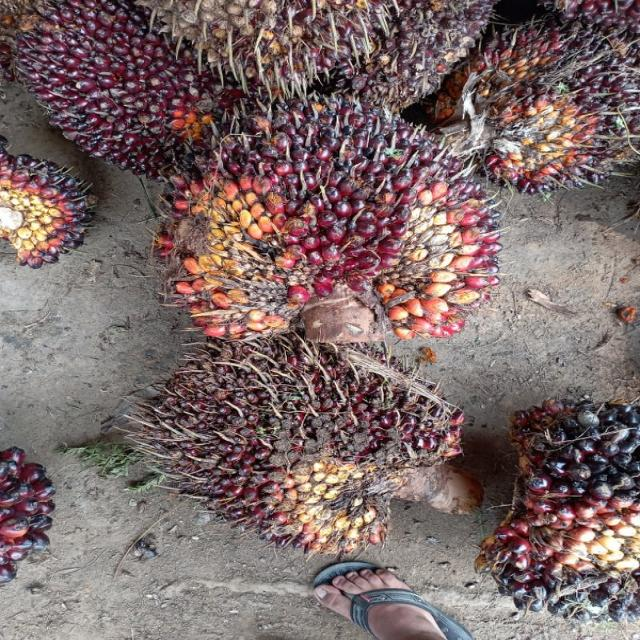fraksi 1: (121, 74, 518, 358)
